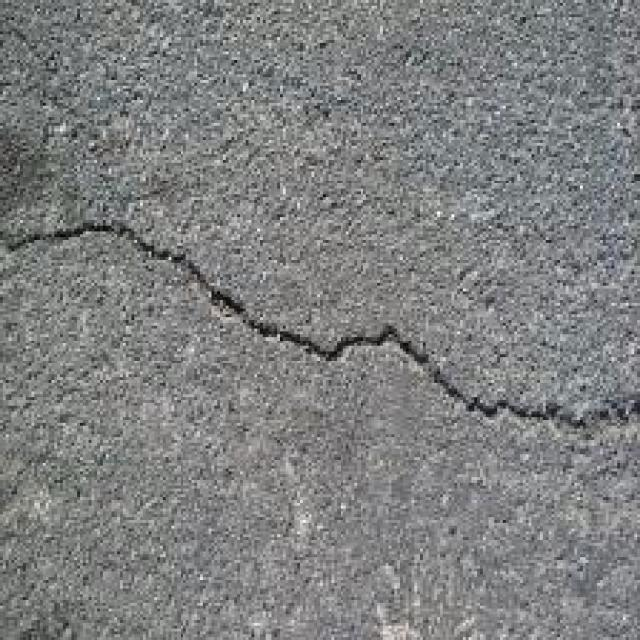SurfaceCrack: (0, 196, 640, 496)
